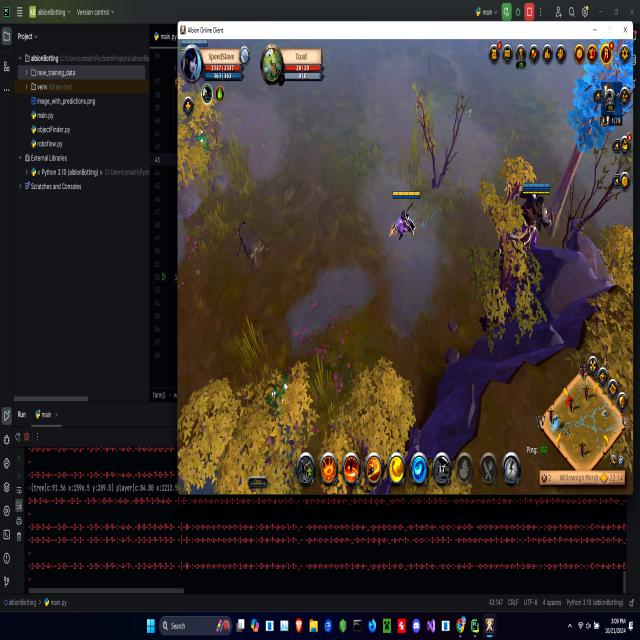red: (508, 171, 554, 263), (388, 188, 422, 252)
wisp caged: (543, 42, 631, 241), (228, 210, 275, 276)
